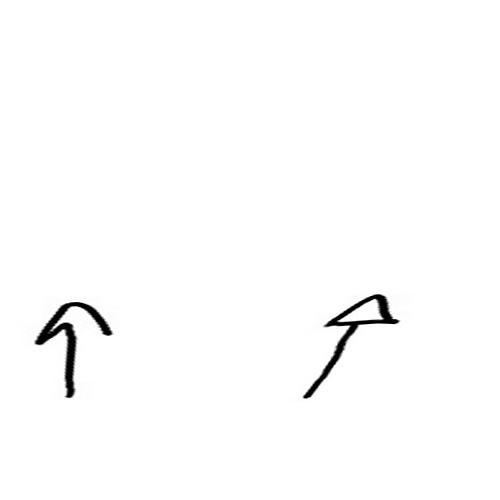arrow: (305, 292, 400, 402), (37, 295, 115, 399)
